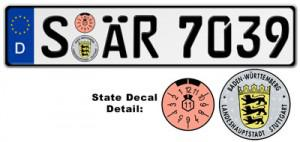0: (206, 14, 233, 58)
3: (236, 12, 262, 59)
7: (177, 14, 203, 59)
9: (264, 14, 290, 59)
R: (132, 12, 160, 60)
S: (40, 15, 69, 58)
ae: (100, 14, 129, 60)
